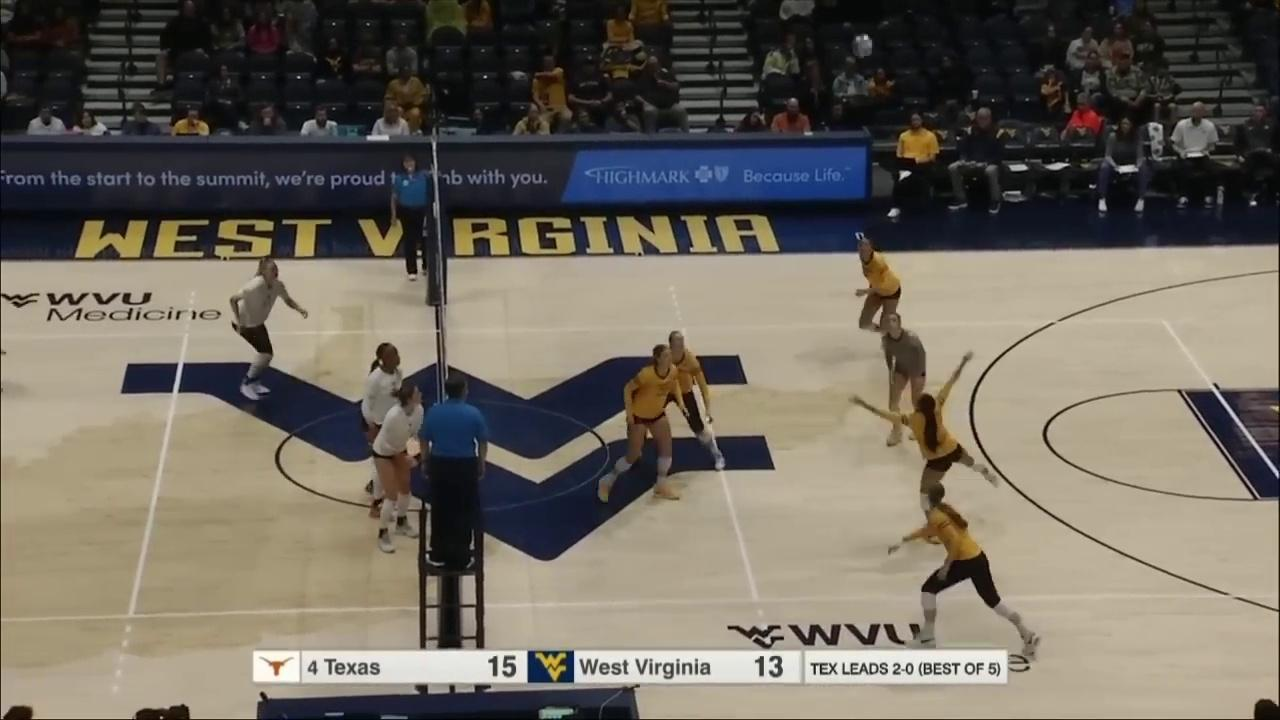player: (846, 349, 1001, 543), (888, 483, 1042, 657), (593, 347, 687, 504), (623, 330, 727, 471), (229, 257, 309, 399), (372, 385, 426, 553), (362, 342, 410, 514), (879, 313, 929, 442), (856, 236, 905, 349)
refree: (421, 377, 489, 567), (390, 155, 438, 274)
